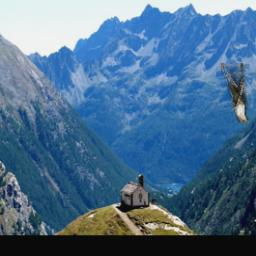Cuckoo: (222, 64, 250, 123)
